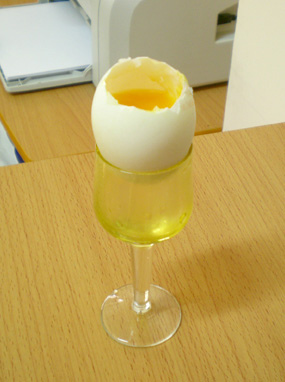egg: (91, 57, 197, 172)
